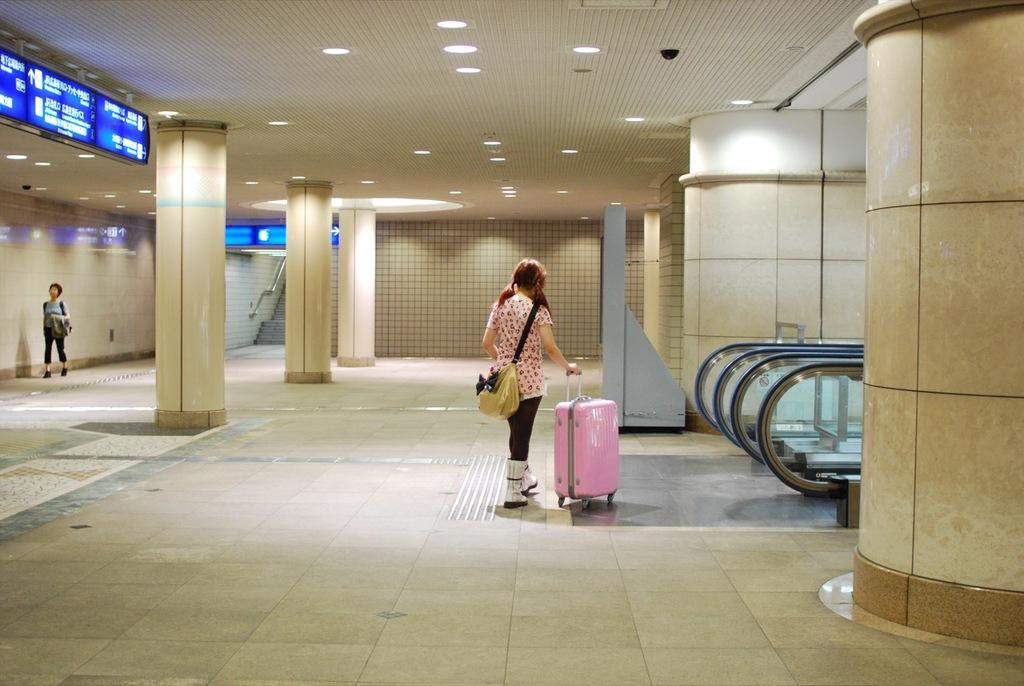Luggage-and-bags: (473, 296, 543, 422), (556, 393, 631, 507)
